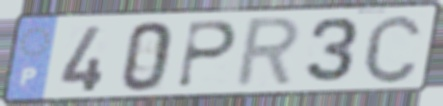0: (118, 19, 175, 94)
3: (304, 15, 364, 85)
4: (55, 22, 106, 94)
C: (360, 11, 425, 86)
P: (174, 19, 240, 90)
R: (231, 14, 304, 91)
